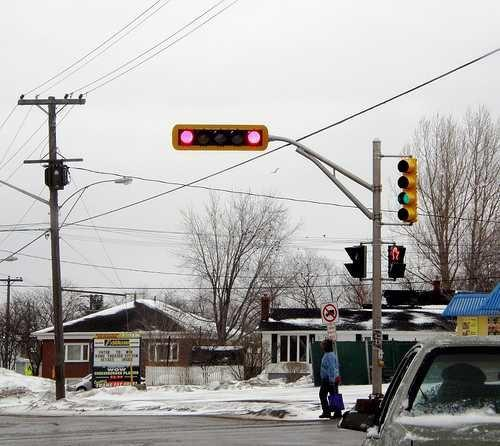green: (177, 127, 194, 148), (249, 129, 261, 148)
